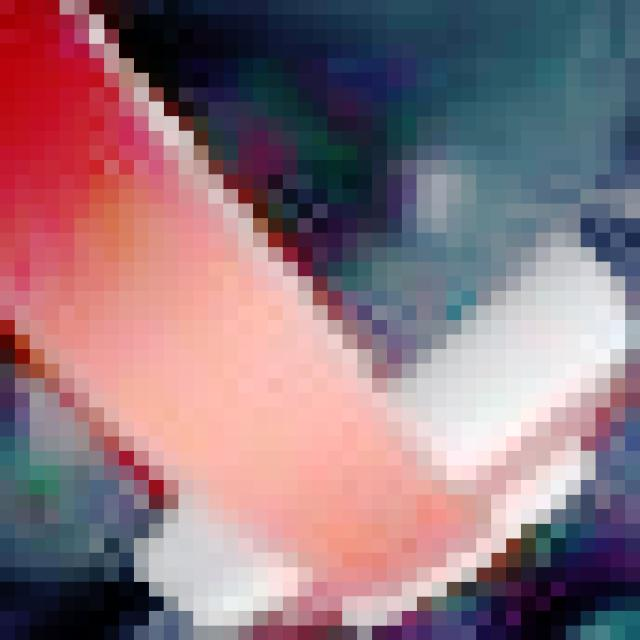arms: (595, 0, 639, 567)
